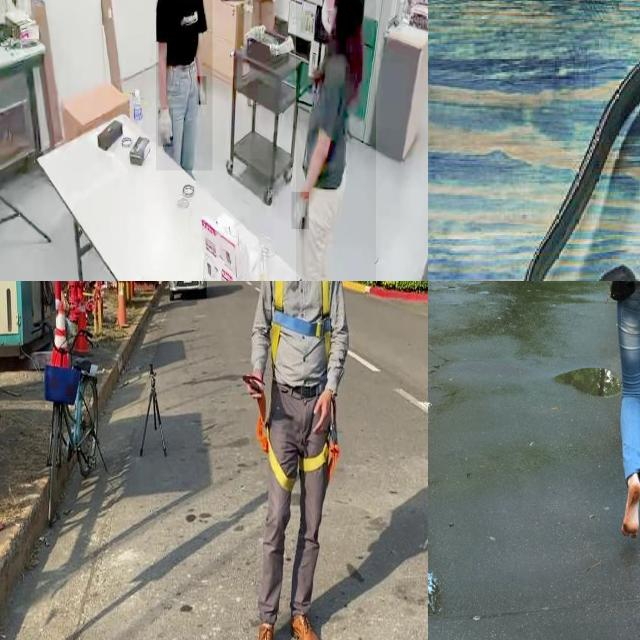Barefoots: (621, 480, 640, 538)
Ear-protection: (526, 37, 640, 281)
Harness: (244, 375, 341, 493), (271, 281, 333, 366)
face_mask: (320, 0, 335, 35)
hand_glove: (292, 192, 310, 230), (158, 108, 174, 148), (197, 76, 207, 106)
person: (295, 0, 376, 281), (156, 0, 213, 171)
